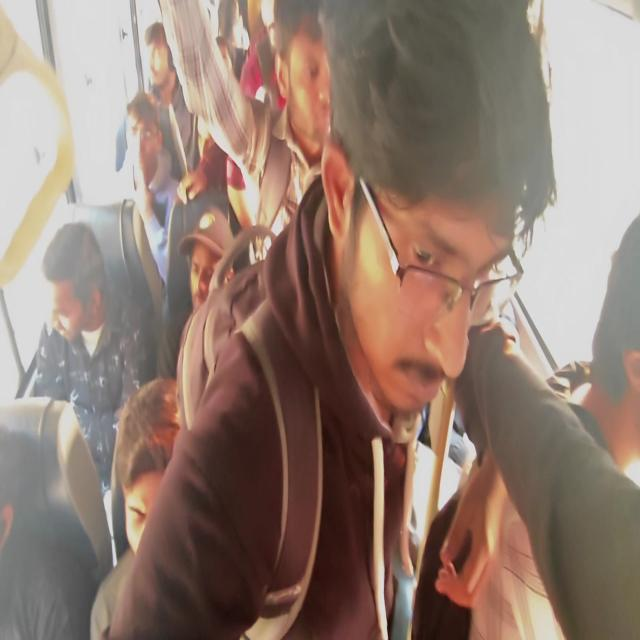person: (348, 47, 502, 436), (109, 414, 200, 588), (608, 214, 640, 524), (268, 15, 326, 160), (47, 222, 102, 310), (114, 99, 171, 172), (188, 216, 222, 313), (189, 36, 243, 82), (133, 24, 174, 82), (195, 110, 233, 162), (205, 0, 244, 26)
